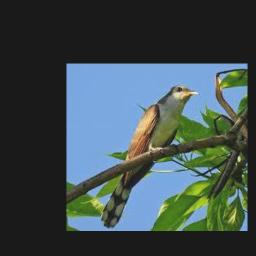Cuckoo: (100, 85, 199, 229)
